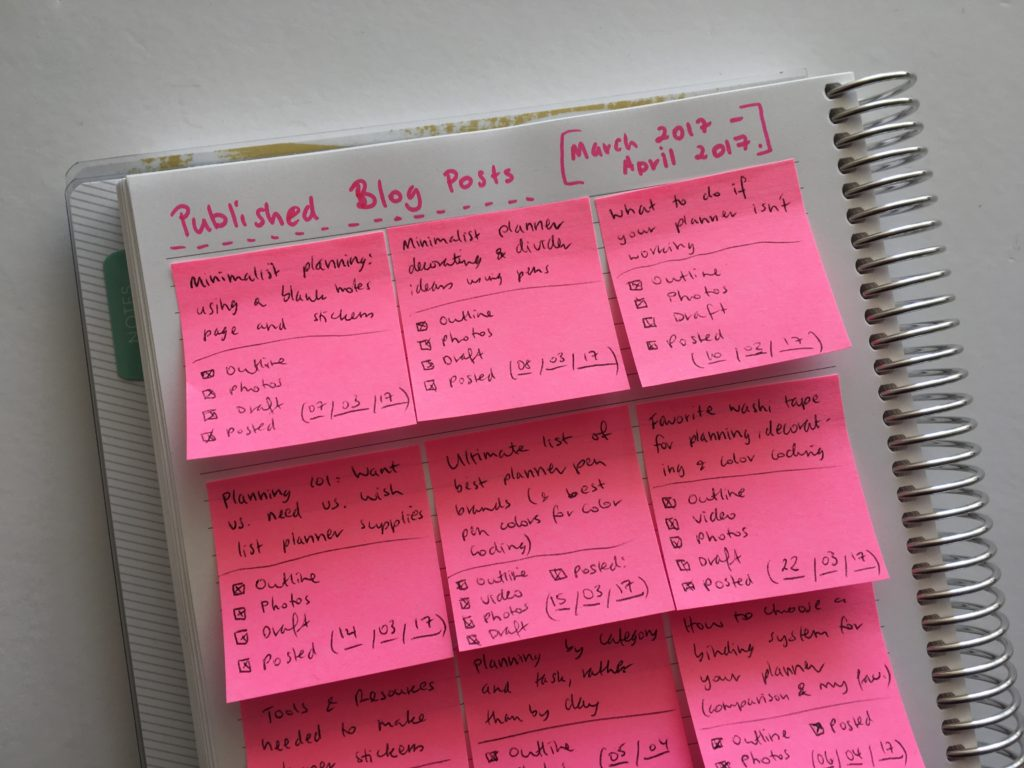Note: (207, 451, 452, 700), (425, 408, 672, 648), (639, 380, 891, 604), (603, 164, 849, 382), (175, 232, 419, 448), (396, 199, 633, 418), (676, 598, 924, 768), (460, 612, 695, 768), (240, 666, 472, 768)
